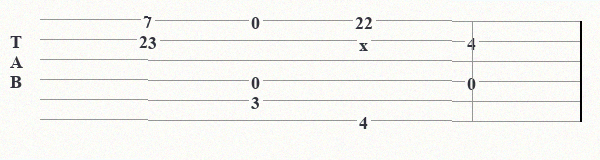0: (251, 12, 264, 28), (251, 72, 264, 88), (467, 72, 480, 88)
22: (355, 12, 377, 28)
23: (139, 32, 161, 48)
3: (251, 92, 264, 108)
4: (359, 112, 372, 128), (467, 32, 480, 48)
7: (143, 12, 156, 28)
x: (359, 34, 372, 46)
